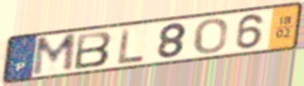6: (235, 12, 266, 51)
8: (156, 22, 187, 60)
B: (73, 30, 114, 71)
L: (117, 26, 146, 66)
M: (30, 31, 79, 78)
O: (193, 17, 229, 56)
